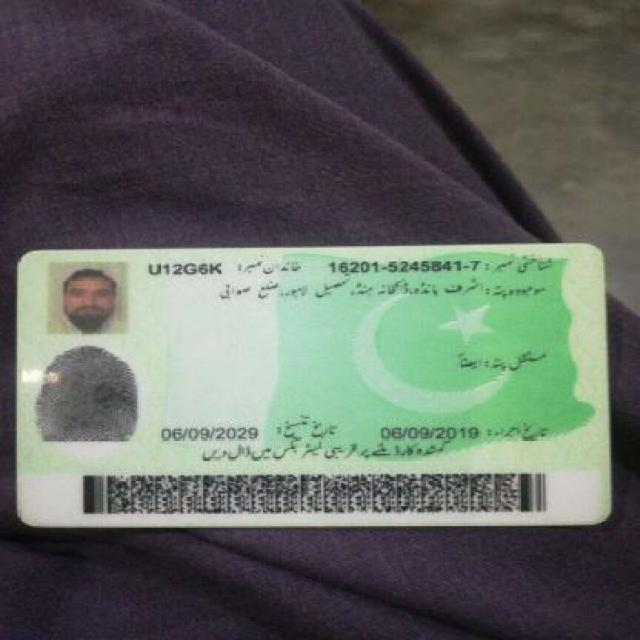Back: (12, 242, 616, 528)
